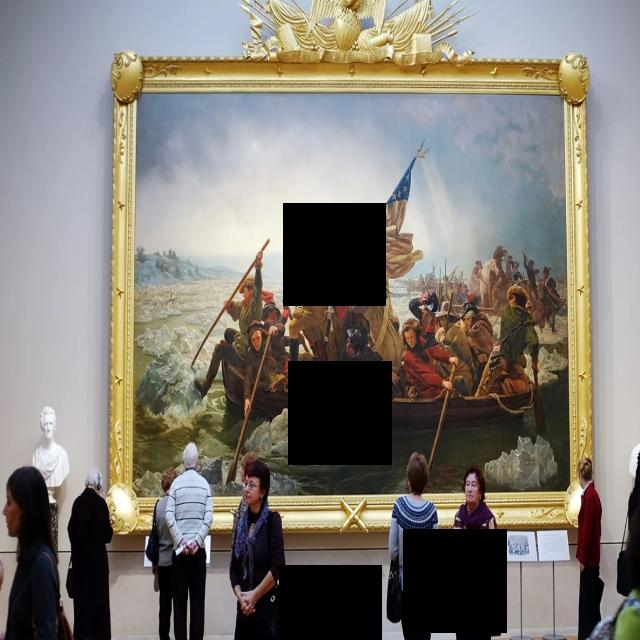Tablo: (130, 92, 571, 499)
